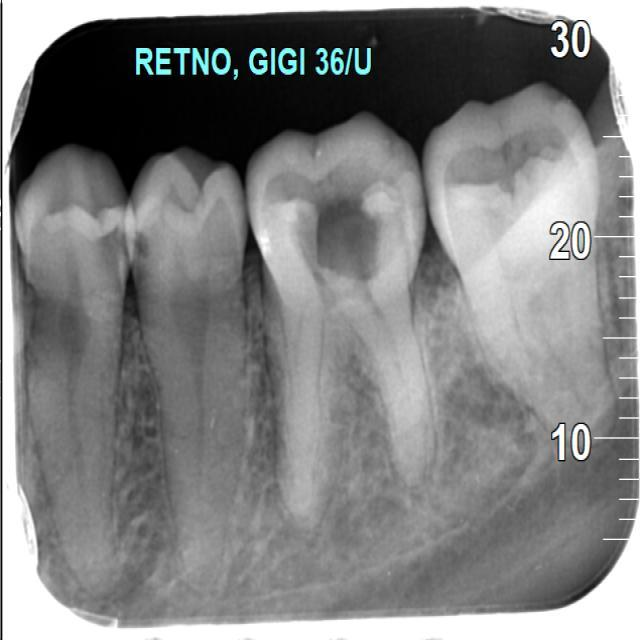individual-tooth-8tto: (240, 124, 430, 521), (130, 154, 251, 579)
